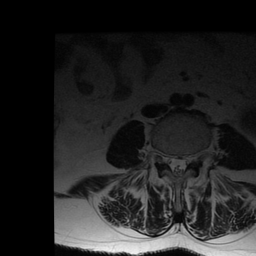CCS_normal: (174, 146, 181, 183)
LFS_normal: (189, 144, 197, 168)
LLS_normal: (181, 146, 189, 179)
RFS_normal: (159, 144, 167, 170)
RLS_normal: (167, 146, 174, 175)
